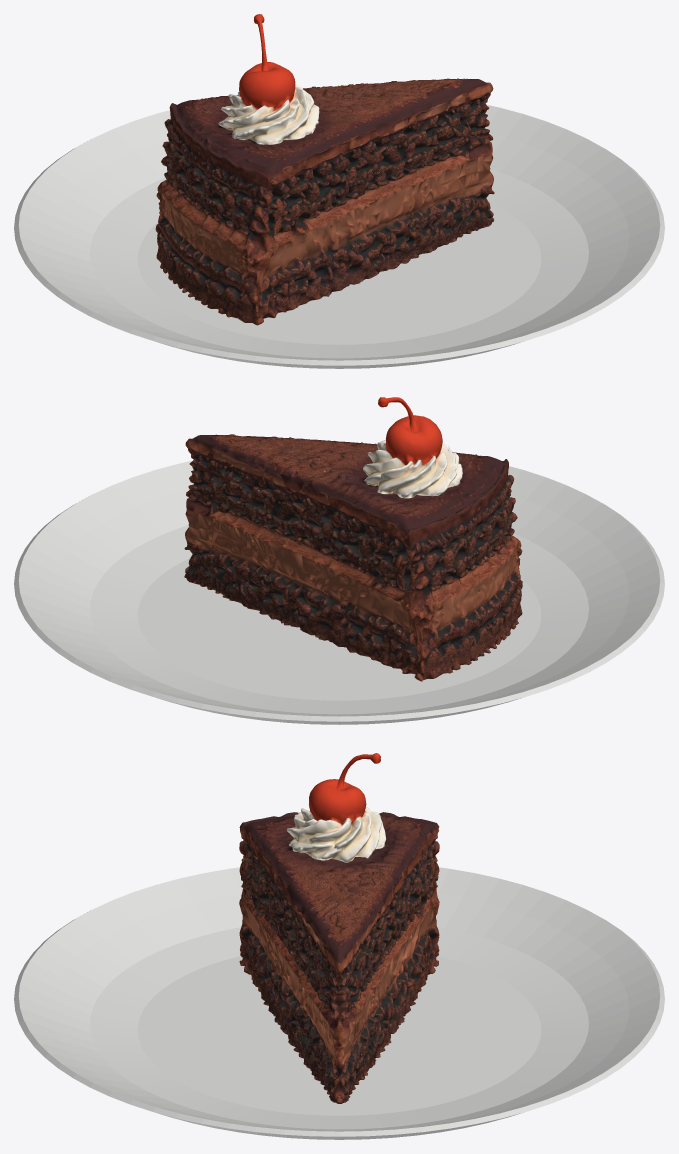
Rendered from pastel_1.glb.
3 views of the same model, one above another, from view 1: azimuth 30°, elevation 25°; view 2: azimuth 150°, elevation 25°; view 3: azimuth 270°, elevation 25° (orthographic).
Parts seen in each view (by area): view 1: plato, comida; view 2: plato, comida; view 3: plato, comida.
Part boxes in pixels (x1,y1,x2,y2): plato: (14, 104, 664, 368); comida: (155, 14, 494, 325); plato: (14, 460, 664, 724); comida: (184, 397, 522, 681); plato: (14, 867, 664, 1139); comida: (239, 753, 439, 1103).
Size of the model in its own units: 0.274 by 0.1205 by 0.274.
2 materials, 1 textured.
